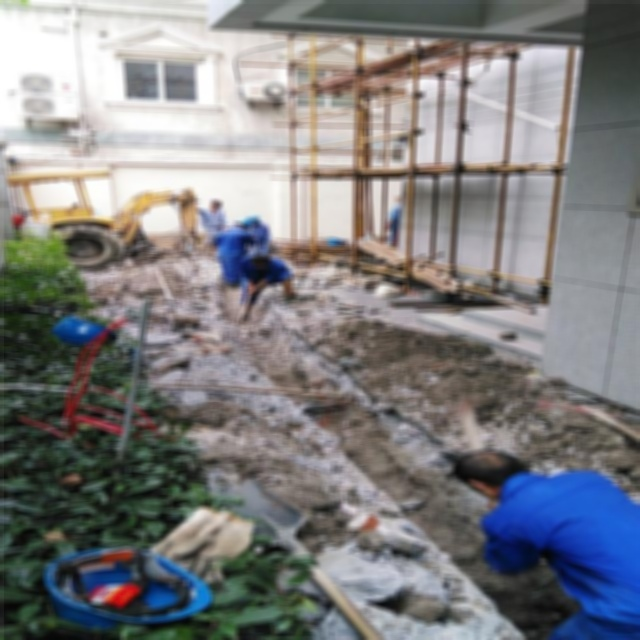Sin_Casco_Mascarrilla: (455, 448, 525, 501)
